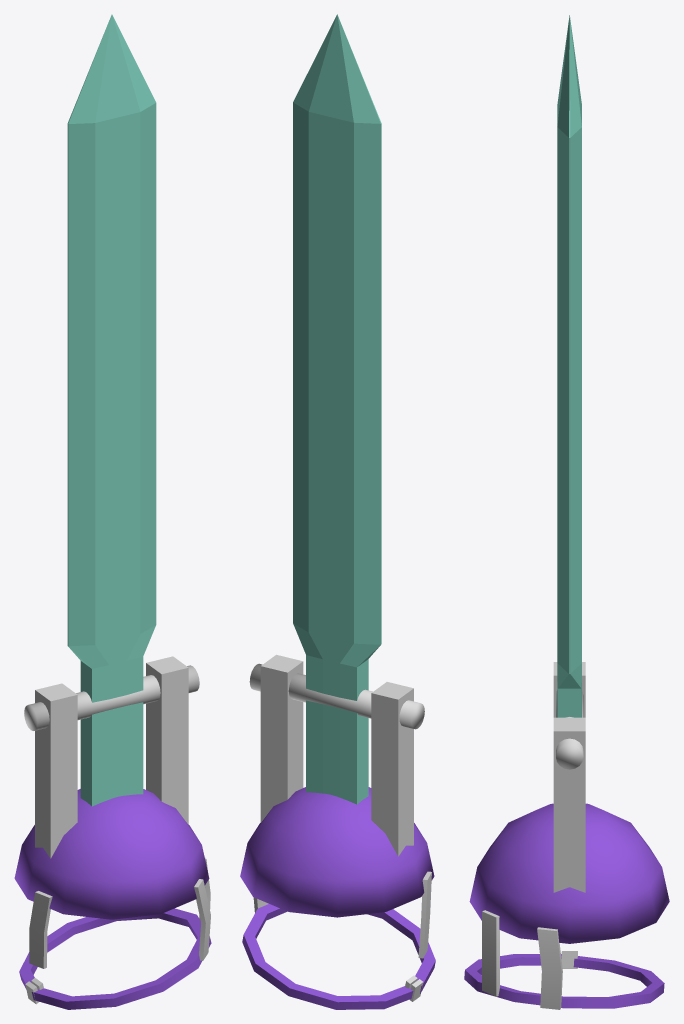
Rendered from SwordArm.glb.
3 renders of one model, left to right at view 1: azimuth 30°, elevation 25°; view 2: azimuth 150°, elevation 25°; view 3: azimuth 270°, elevation 25°, orthographic. The views are drawn at different scales.
Parts seen in each view (by area): view 1: Cube.001, Sphere, Cube, Sphere.001, Cylinder, Cube.004, Cube.002; view 2: Cube.001, Sphere, Cube, Sphere.001, Cylinder, Cube.004; view 3: Sphere, Cube.001, Cube, Sphere.001, Cube.003, Cube.002, Cylinder.
Boxes of the visible parts, x1,y1,x2,y2 form: Cube.001: (67, 14, 156, 806); Sphere: (14, 789, 209, 919); Cube: (35, 656, 188, 858); Sphere.001: (19, 908, 211, 1009); Cylinder: (24, 665, 199, 730); Cube.004: (29, 891, 52, 968); Cube.002: (194, 879, 210, 960); Cube.001: (293, 14, 381, 804); Sphere: (240, 787, 434, 917); Cube: (260, 654, 413, 856); Sphere.001: (242, 904, 435, 1009); Cylinder: (249, 663, 424, 729); Cube.004: (418, 871, 431, 958); Sphere: (469, 803, 669, 943); Cube.001: (557, 15, 581, 717); Cube: (553, 662, 585, 892); Sphere.001: (464, 954, 664, 1008); Cube.003: (537, 927, 562, 1009); Cube.002: (482, 910, 499, 996); Cylinder: (556, 690, 583, 769).
Bounding box in the file's own units: 0.2806 × 1.48 × 0.2778.
